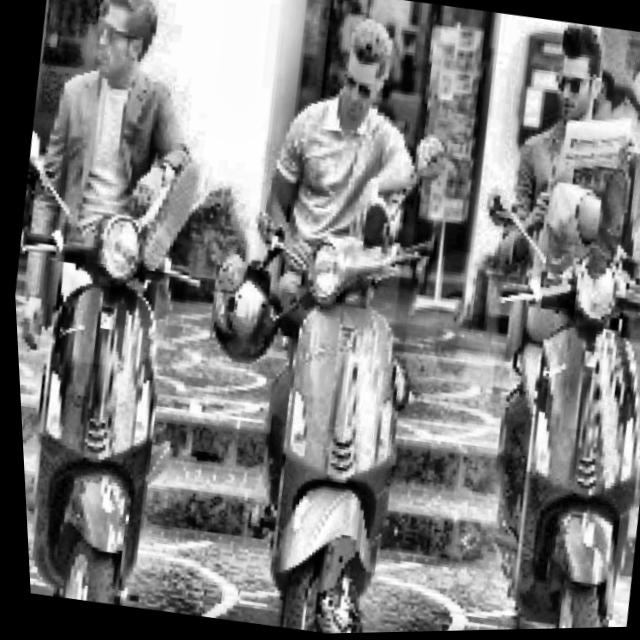motorcycle: (165, 169, 463, 637), (5, 124, 229, 614), (407, 167, 640, 633)
